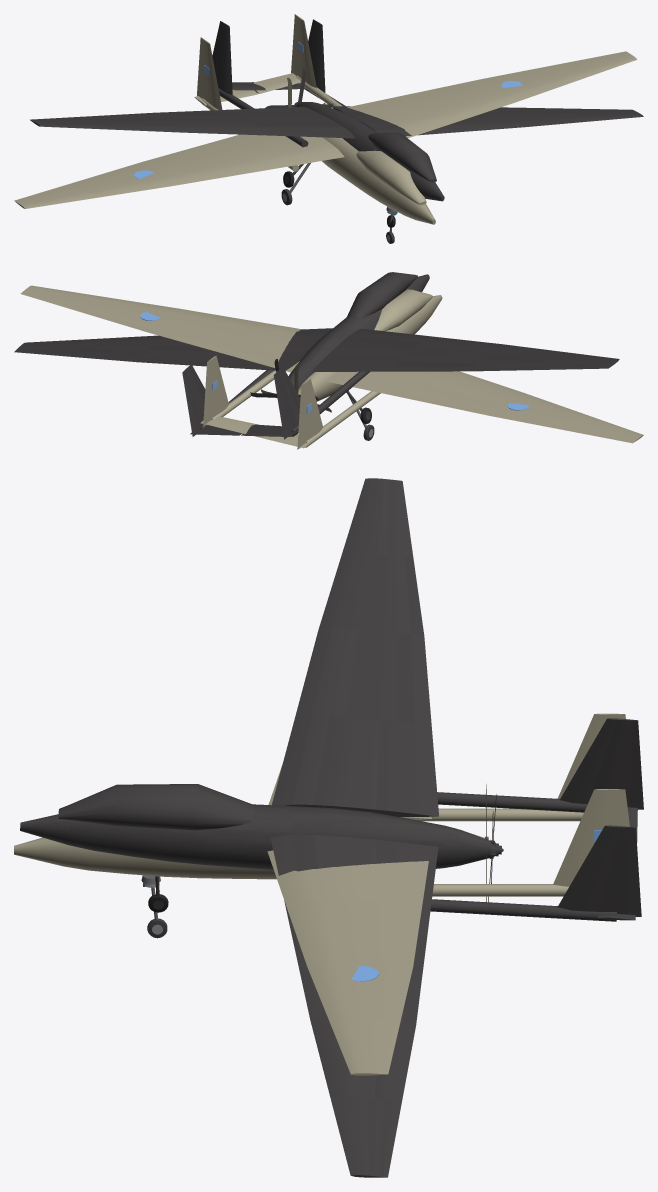
Rendered from drone__heron_tp.glb.
3 views of the same model, one above another, from view 1: azimuth 30°, elevation 25°; view 2: azimuth 150°, elevation 25°; view 3: azimuth 270°, elevation 25° (orthographic). The views are drawn at different scales.
Parts seen in each view (by area): view 1: Fuselage_Mesh, Wreck; view 2: Fuselage_Mesh, Wreck; view 3: Wreck, Fuselage_Mesh.
Boxes of the visible parts, x1,y1,x2,y2 form: Fuselage_Mesh: (14,14,636,243); Wreck: (30,19,643,227); Fuselage_Mesh: (20,285,643,449); Wreck: (14,272,619,439); Wreck: (20,478,643,1177); Fuselage_Mesh: (14,713,629,1075).
Size of what is drawn, in the model's own units: 26.28 by 5.7 by 14.14.
